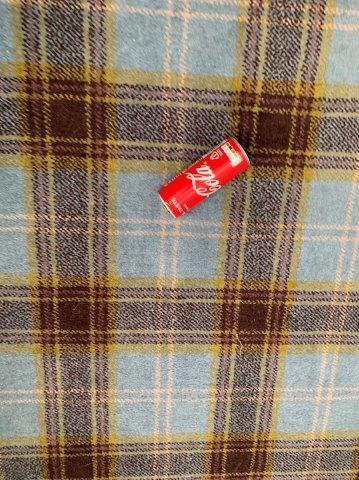kaleng: (160, 138, 249, 219)
